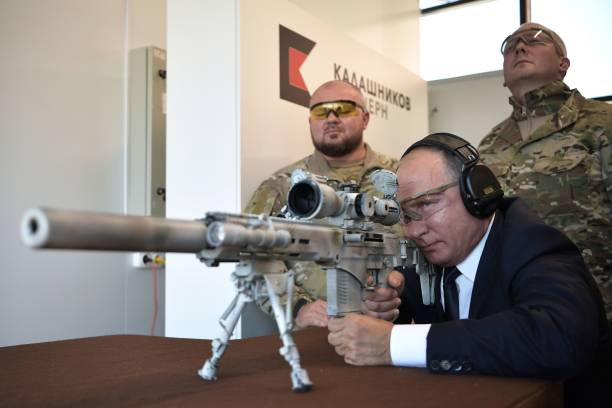rifle: (25, 168, 405, 385)
